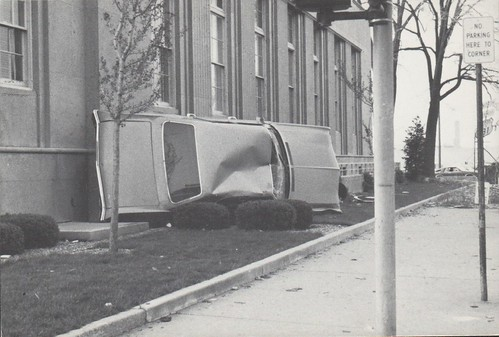building: (1, 1, 392, 187)
car: (84, 113, 340, 233)
sign: (458, 13, 499, 65)
tree: (91, 4, 174, 269)
